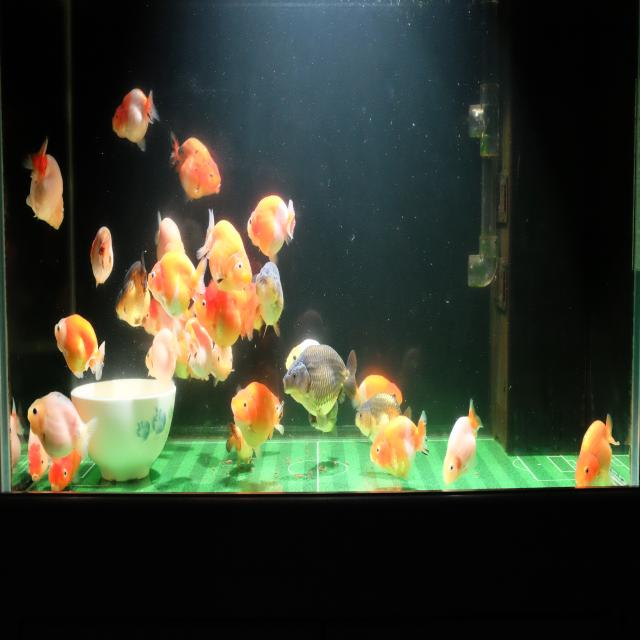Goldfish: (282, 342, 358, 430), (27, 388, 98, 466), (196, 205, 252, 292), (369, 407, 432, 481), (230, 378, 284, 462), (194, 281, 259, 350), (147, 250, 208, 320), (22, 137, 65, 233), (167, 128, 222, 202), (442, 397, 485, 486), (53, 313, 106, 383), (574, 410, 621, 487), (246, 194, 296, 266), (111, 85, 160, 154), (354, 391, 413, 444), (114, 250, 151, 330), (256, 260, 285, 341), (145, 321, 180, 388), (354, 377, 404, 412), (90, 223, 114, 289), (210, 341, 236, 393)
